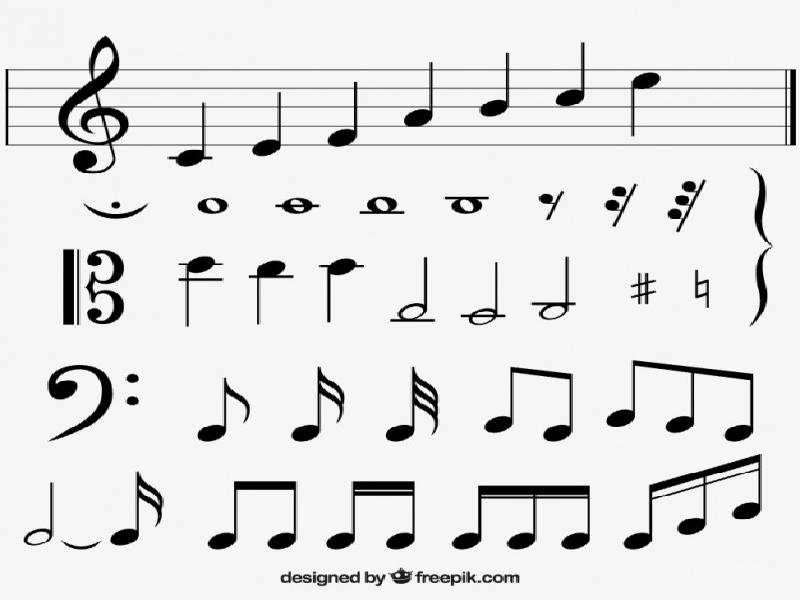B: (464, 256, 501, 334), (534, 251, 575, 321), (396, 253, 433, 327), (24, 478, 60, 549)
C: (606, 354, 667, 437), (667, 348, 722, 437), (485, 356, 538, 435), (532, 361, 581, 442), (195, 377, 252, 446), (722, 356, 758, 444)
CF: (38, 363, 148, 439)
CS: (58, 34, 129, 173)
N: (177, 249, 218, 328), (251, 255, 293, 327), (321, 250, 362, 321), (319, 84, 363, 148), (404, 61, 439, 132), (626, 70, 662, 139), (555, 40, 589, 110), (174, 104, 211, 168), (250, 91, 284, 158), (479, 54, 515, 117)
R: (280, 188, 319, 220), (365, 187, 400, 221), (450, 189, 486, 220), (196, 194, 230, 216)
SC: (288, 367, 350, 442), (551, 467, 600, 558), (110, 472, 166, 550), (724, 450, 775, 532), (622, 475, 677, 551), (206, 477, 260, 554), (381, 468, 425, 555), (261, 473, 309, 551), (447, 482, 498, 554), (676, 468, 727, 537), (506, 480, 546, 553), (325, 479, 363, 551)
SOS: (631, 265, 658, 307)
